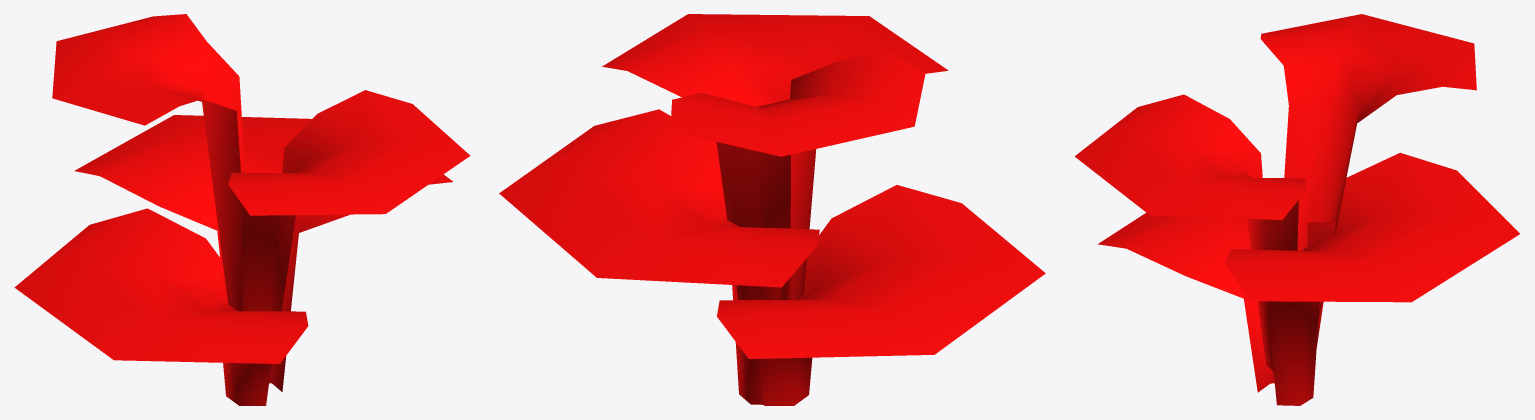
Rendered from Fungi_4.fbx.
3 views of the same model, side by side, from view 1: azimuth 30°, elevation 25°; view 2: azimuth 150°, elevation 25°; view 3: azimuth 270°, elevation 25° (orthographic). The views are drawn at different scales.
Parts seen in each view (by area): view 1: Fungi_4; view 2: Fungi_4; view 3: Fungi_4.
Part boxes in pixels (x1,y1,x2,y2): Fungi_4: (14,14,470,405); Fungi_4: (499,14,1045,405); Fungi_4: (1075,14,1519,405).
Size of the model in its own units: 222 by 182 by 234.
